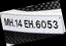character: (27, 19, 34, 28), (40, 20, 47, 29), (35, 19, 41, 29), (46, 19, 52, 29), (52, 19, 58, 29), (8, 18, 14, 26), (4, 17, 9, 26), (14, 18, 19, 27), (24, 19, 29, 28), (17, 19, 22, 27)
